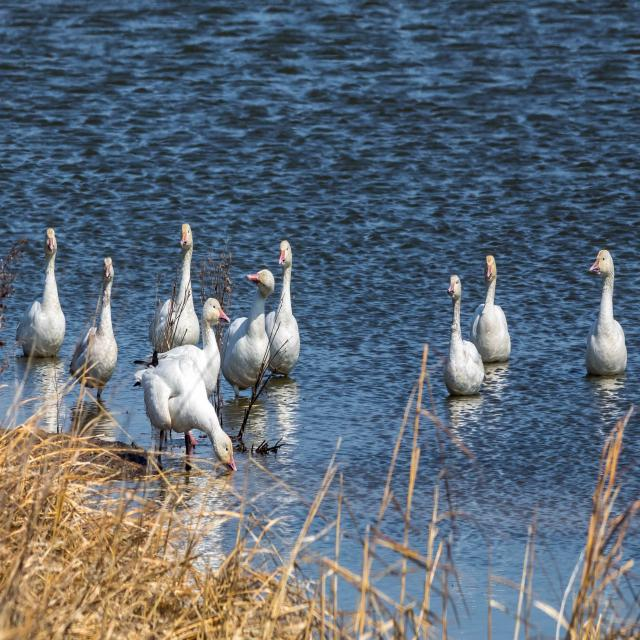bird: (228, 241, 308, 422), (64, 243, 122, 438), (132, 372, 236, 476), (218, 294, 278, 459), (19, 225, 72, 366), (436, 272, 492, 393), (584, 248, 635, 378), (150, 215, 199, 346), (471, 256, 514, 384), (158, 296, 232, 364)
